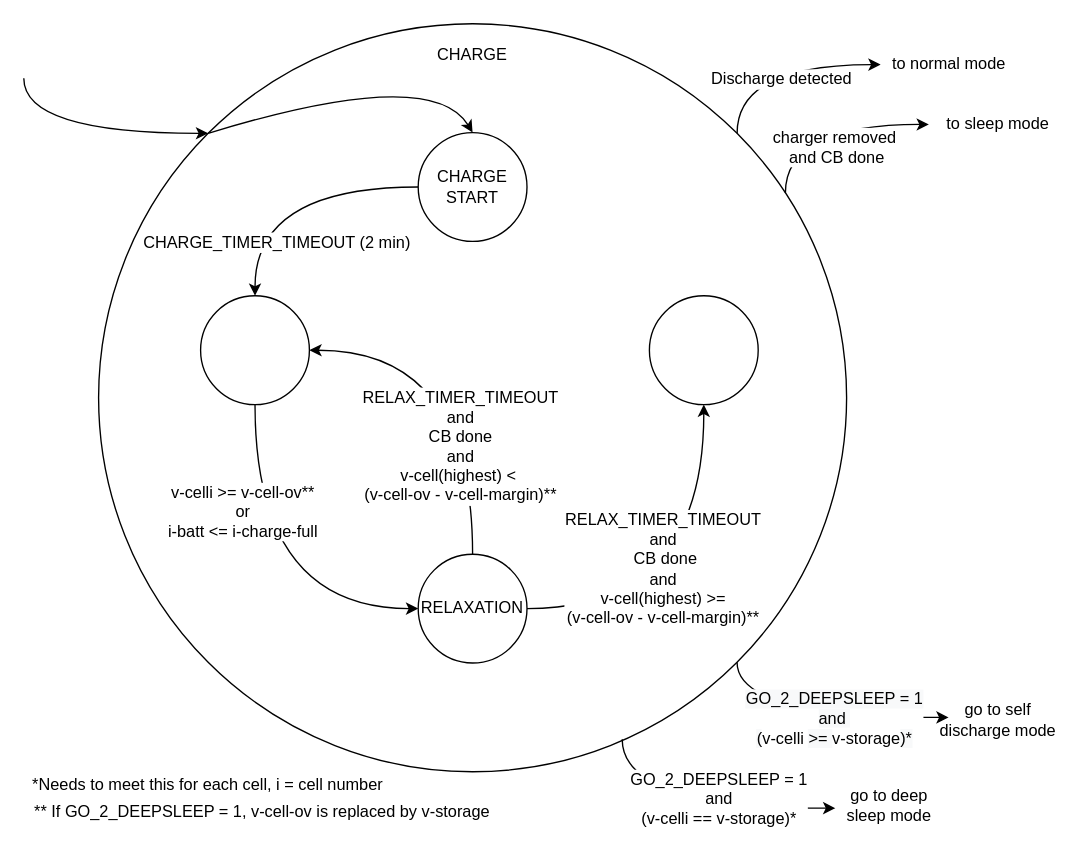
Image size: 1088x853. Some labels were removed from this diagram. Each missing label, with the centre of its shape:
"CHARGE COMPLETE" belongs at (703,349).
"CHARGE WITH CB" belongs at (254,349).
